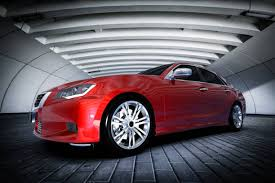wheel: (102, 95, 156, 158)
